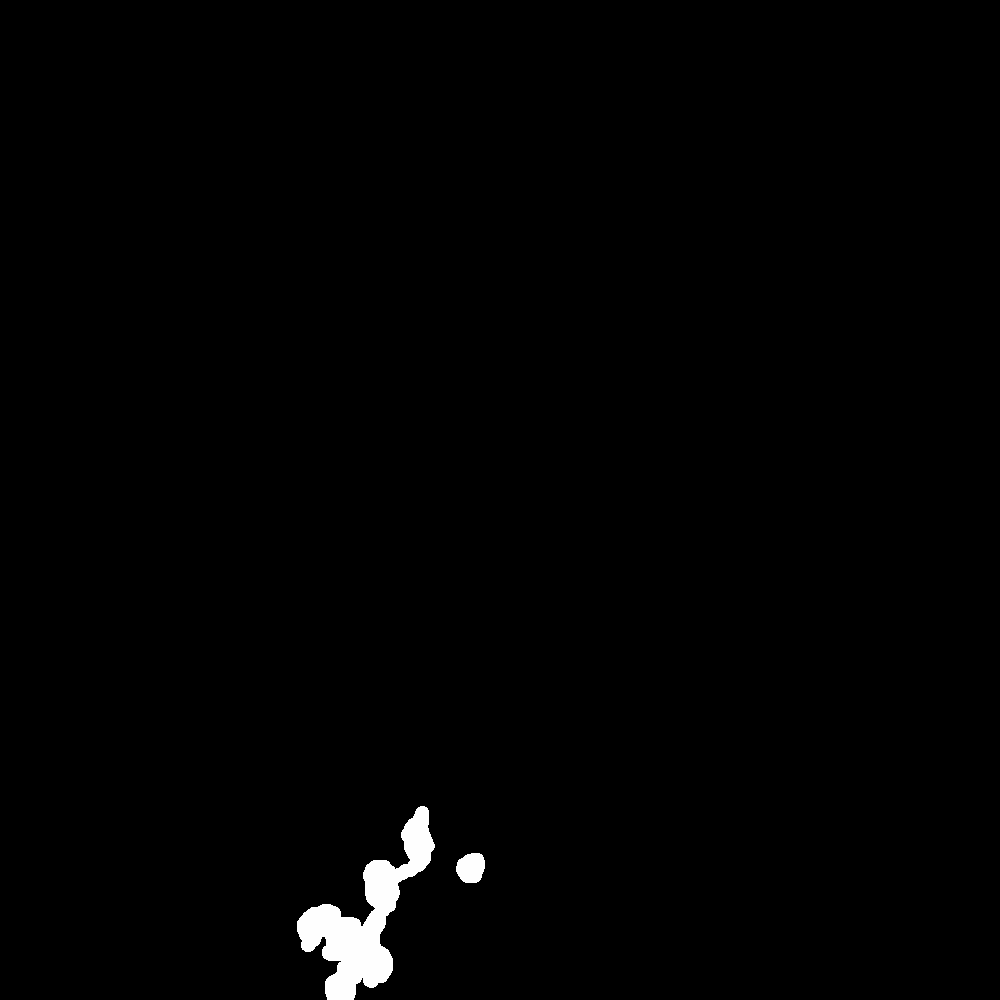illegal: (299, 813, 489, 1000)
